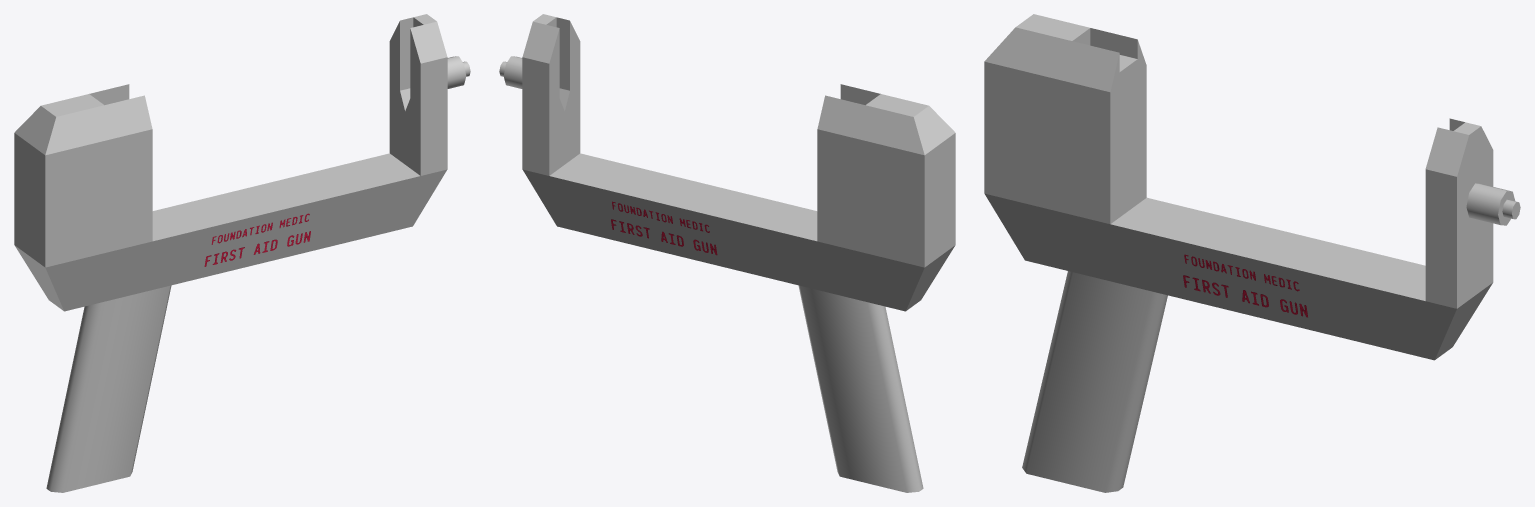
Rendered from MedGun.obj.
The picture shows the model from 3 angles, left to right: view 1: azimuth 30°, elevation 25°; view 2: azimuth 150°, elevation 25°; view 3: azimuth 330°, elevation 25°; orthographic projection. The views are drawn at different scales.
Parts seen in each view (by area): view 1: MedGun; view 2: MedGun; view 3: MedGun.
Part boxes in pixels (x1,y1,x2,y2): MedGun: [14, 14, 470, 492]; MedGun: [499, 14, 955, 492]; MedGun: [984, 14, 1520, 492].
Bounding box in the file's own units: 1.63 × 1.35 × 0.2062.
